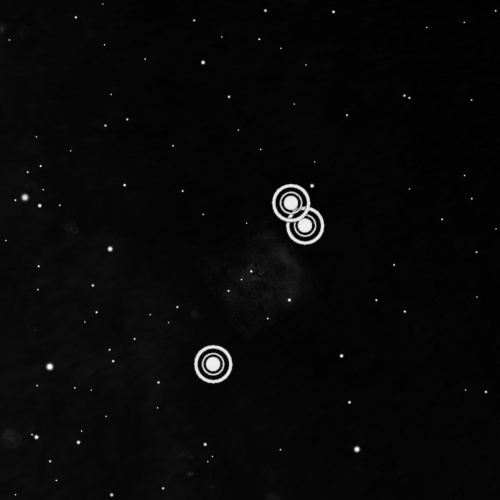canis_minor: (190, 178, 332, 399)
